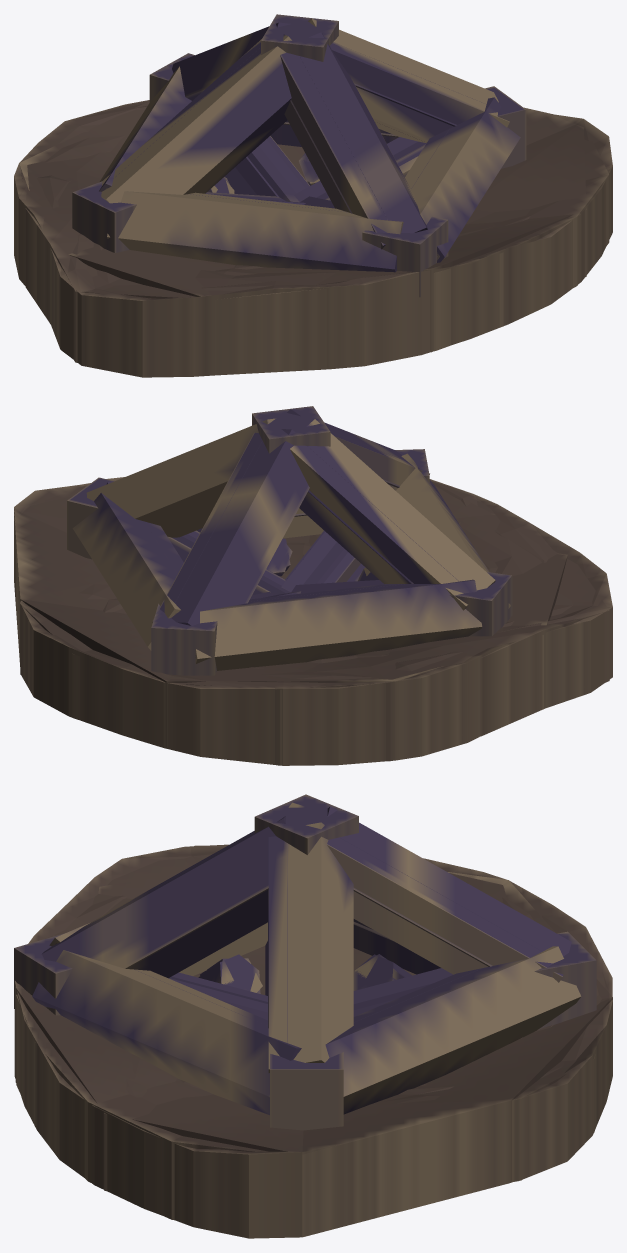
File: SF_INCL_EXOTIC_OCTAHEDRAL_CAGE_V1.glb
3 views of the same model, one above another, from view 1: azimuth 30°, elevation 25°; view 2: azimuth 150°, elevation 25°; view 3: azimuth 270°, elevation 25° (orthographic). The views are drawn at different scales.
Visible parts, largest first — view 1: LOD2_SF_INCL_EXOTIC_OCTAHEDRAL_CAGE_V1, LOD0_SF_INCL_EXOTIC_OCTAHEDRAL_CAGE_V1, LOD1_SF_INCL_EXOTIC_OCTAHEDRAL_CAGE_V1; view 2: LOD2_SF_INCL_EXOTIC_OCTAHEDRAL_CAGE_V1, LOD0_SF_INCL_EXOTIC_OCTAHEDRAL_CAGE_V1, LOD1_SF_INCL_EXOTIC_OCTAHEDRAL_CAGE_V1; view 3: LOD2_SF_INCL_EXOTIC_OCTAHEDRAL_CAGE_V1, LOD0_SF_INCL_EXOTIC_OCTAHEDRAL_CAGE_V1, LOD1_SF_INCL_EXOTIC_OCTAHEDRAL_CAGE_V1.
Boxes of the visible parts, x1=… form: LOD2_SF_INCL_EXOTIC_OCTAHEDRAL_CAGE_V1: x1=19, y1=18, x2=586, y2=352; LOD0_SF_INCL_EXOTIC_OCTAHEDRAL_CAGE_V1: x1=14, y1=14, x2=612, y2=377; LOD1_SF_INCL_EXOTIC_OCTAHEDRAL_CAGE_V1: x1=21, y1=102, x2=609, y2=375; LOD2_SF_INCL_EXOTIC_OCTAHEDRAL_CAGE_V1: x1=14, y1=409, x2=567, y2=748; LOD0_SF_INCL_EXOTIC_OCTAHEDRAL_CAGE_V1: x1=14, y1=406, x2=612, y2=765; LOD1_SF_INCL_EXOTIC_OCTAHEDRAL_CAGE_V1: x1=20, y1=477, x2=609, y2=765; LOD2_SF_INCL_EXOTIC_OCTAHEDRAL_CAGE_V1: x1=15, y1=802, x2=612, y2=1237; LOD0_SF_INCL_EXOTIC_OCTAHEDRAL_CAGE_V1: x1=14, y1=794, x2=612, y2=1238; LOD1_SF_INCL_EXOTIC_OCTAHEDRAL_CAGE_V1: x1=16, y1=845, x2=612, y2=1220.
Bounding box in the file's own units: 1.1 × 0.4484 × 0.893.
Materials: 1 (1 with a texture image).
